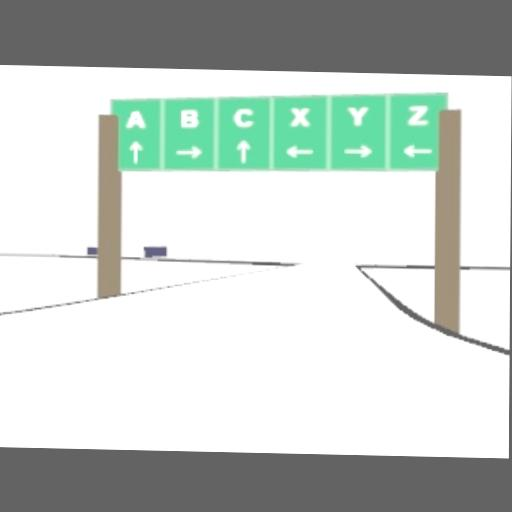A: (126, 110, 145, 128)
B: (179, 108, 197, 127)
C: (233, 107, 254, 126)
Left: (400, 144, 432, 159), (285, 145, 315, 158)
Right: (174, 144, 202, 159), (343, 145, 373, 157)
Straight: (129, 139, 143, 163), (236, 139, 250, 162)
X: (291, 107, 310, 126)
Y: (347, 106, 368, 126)
Z: (408, 104, 429, 125)
